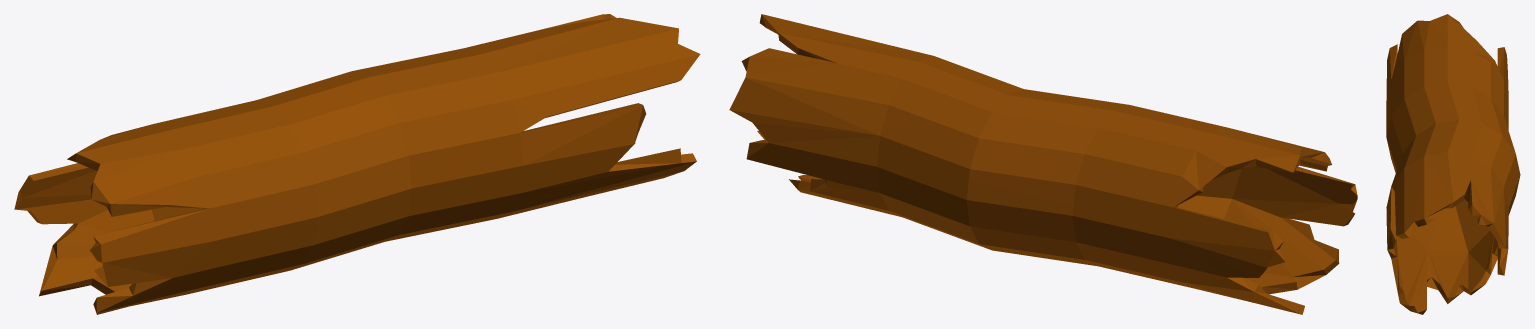
The model's file is Trunk 2.FBX.
The picture shows the model from 3 angles, left to right: view 1: azimuth 30°, elevation 25°; view 2: azimuth 150°, elevation 25°; view 3: azimuth 270°, elevation 25°; orthographic projection. The views are drawn at different scales.
Parts seen in each view (by area): view 1: Cylinder; view 2: Cylinder; view 3: Cylinder.
Part boxes in pixels (x1=…): Cylinder: x1=14, y1=14, x2=700, y2=314; Cylinder: x1=729, y1=14, x2=1357, y2=314; Cylinder: x1=1386, y1=14, x2=1520, y2=314.
Size of the model in its own units: 13.32 by 3.33 by 3.56.
